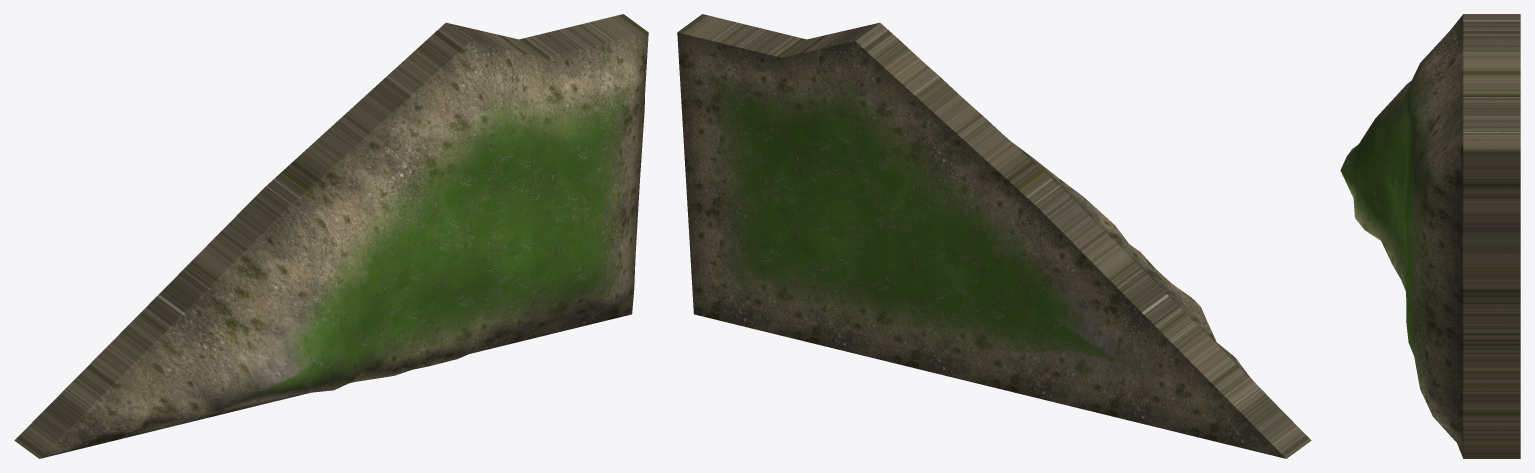
The model's file is green_island_004.obj.
3 views of the same model, side by side, from view 1: azimuth 30°, elevation 25°; view 2: azimuth 150°, elevation 25°; view 3: azimuth 270°, elevation 25° (orthographic). The views are drawn at different scales.
Parts seen in each view (by area): view 1: terrain_surface, shoreline_skirt; view 2: seabed_cap, shoreline_skirt, terrain_surface; view 3: terrain_surface, shoreline_skirt.
Boxes of the visible parts, left/top/right/bottom form: terrain_surface: left=40, top=32, right=648, bottom=458; shoreline_skirt: left=14, top=14, right=648, bottom=458; seabed_cap: left=677, top=32, right=1285, bottom=458; shoreline_skirt: left=677, top=14, right=1311, bottom=458; terrain_surface: left=888, top=30, right=1276, bottom=404; terrain_surface: left=1340, top=14, right=1463, bottom=458; shoreline_skirt: left=1463, top=14, right=1520, bottom=458.
Size of the model in its own units: 73.41 by 36 by 16.52.
Materials: 1 (1 with a texture image).
